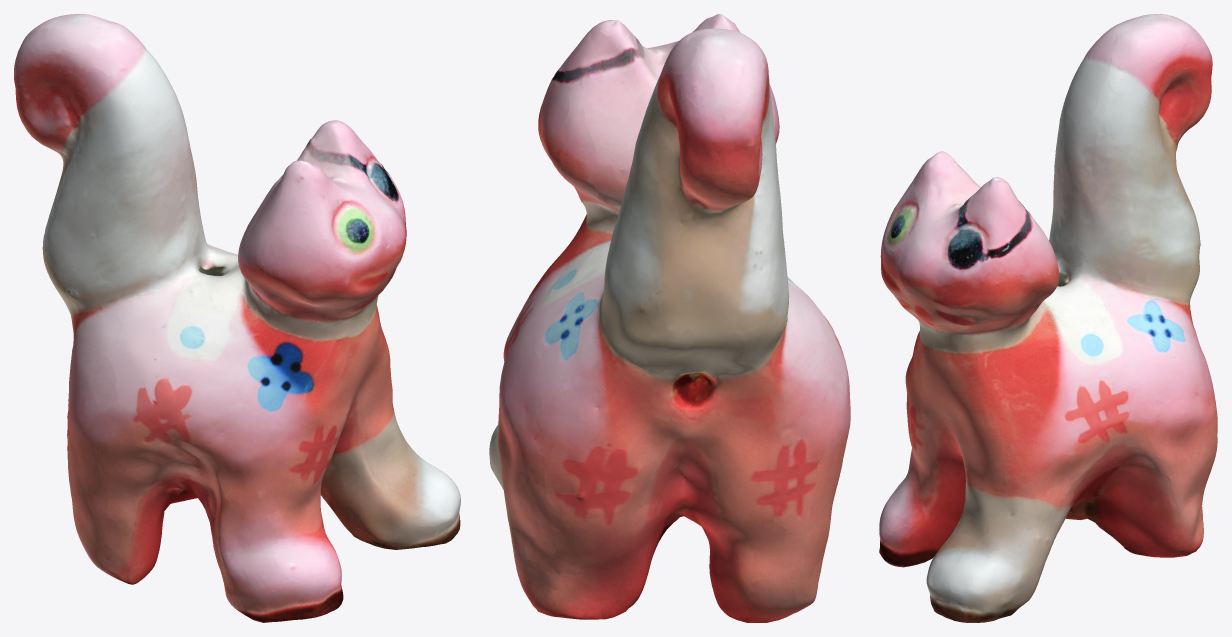
Rendered from asset.glb.
3 views of the same model, side by side, from view 1: azimuth 30°, elevation 25°; view 2: azimuth 150°, elevation 25°; view 3: azimuth 270°, elevation 25° (orthographic). The views are drawn at different scales.
Visible parts, largest first — view 1: Mesh_0; view 2: Mesh_0; view 3: Mesh_0.
Boxes of the visible parts, x1=… form: Mesh_0: x1=14, y1=14, x2=460, y2=622; Mesh_0: x1=489, y1=14, x2=850, y2=622; Mesh_0: x1=879, y1=14, x2=1217, y2=622.
Bounding box in the file's own units: 1.18 × 1.77 × 1.09.
1 material, 1 textured.
